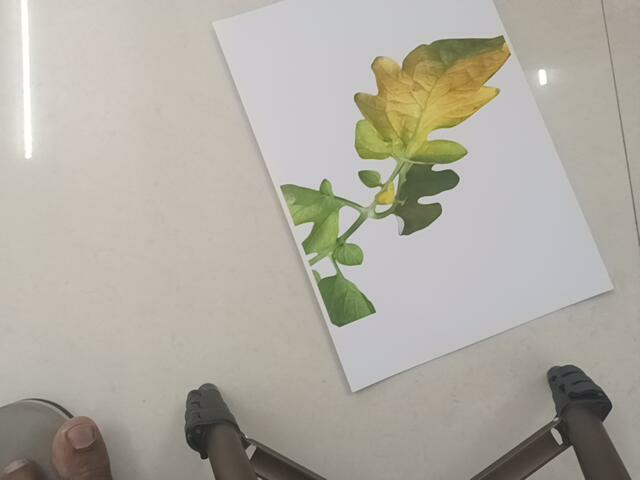Tomamto_Yellow_Disease: (285, 31, 529, 306)
